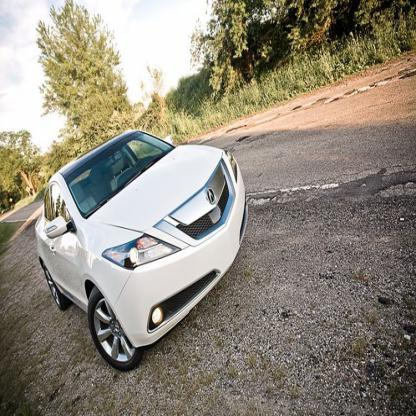Vehicle: (34, 129, 250, 374)
